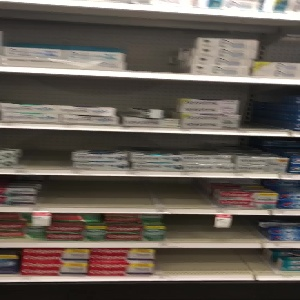void: (41, 181, 214, 210), (125, 17, 189, 73), (160, 248, 274, 277), (167, 215, 269, 241), (242, 83, 292, 129), (19, 133, 72, 168)
